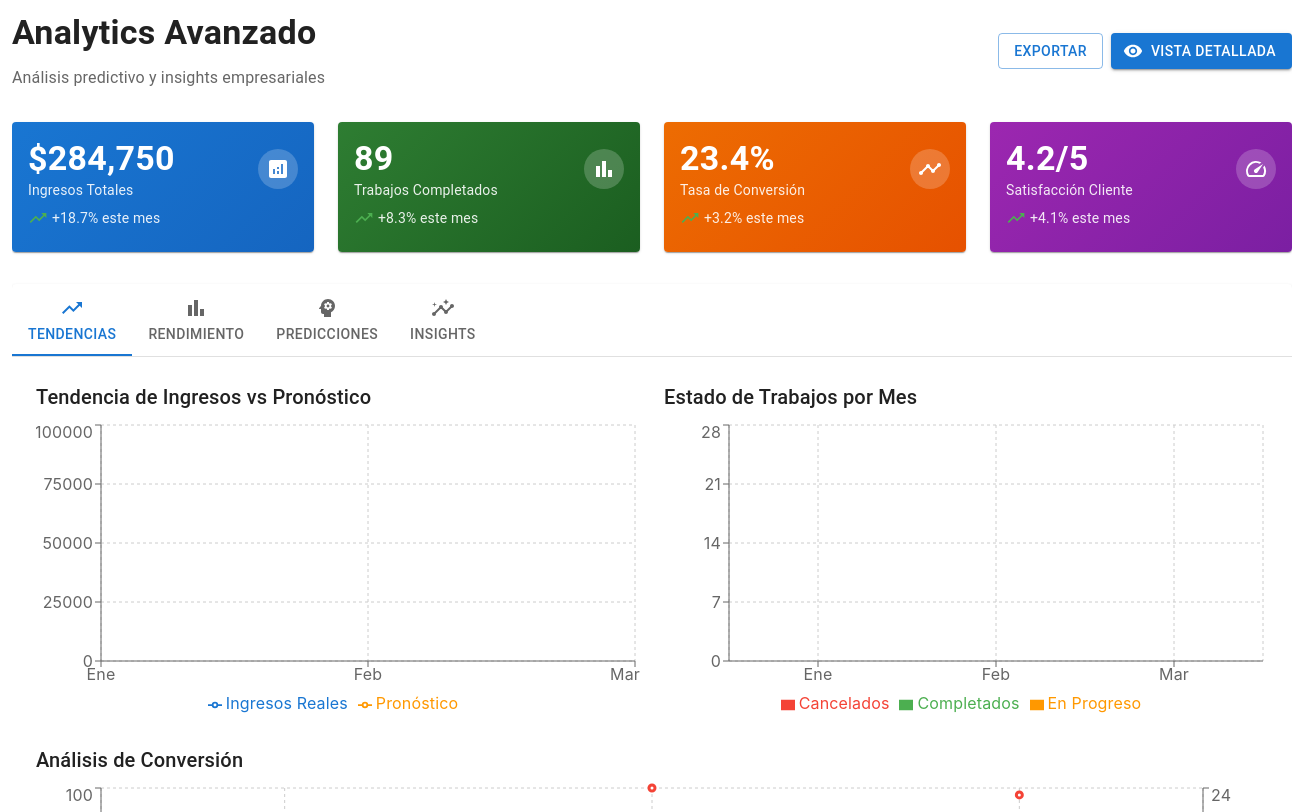
Test case: AdvancedAnalytics Component › displays top performers correctly
This screenshot has width=1304, height=812.
Switch to Rendimiento tab
Click the tab "Rendimiento" at point(196, 320), box [132,284,260,356]
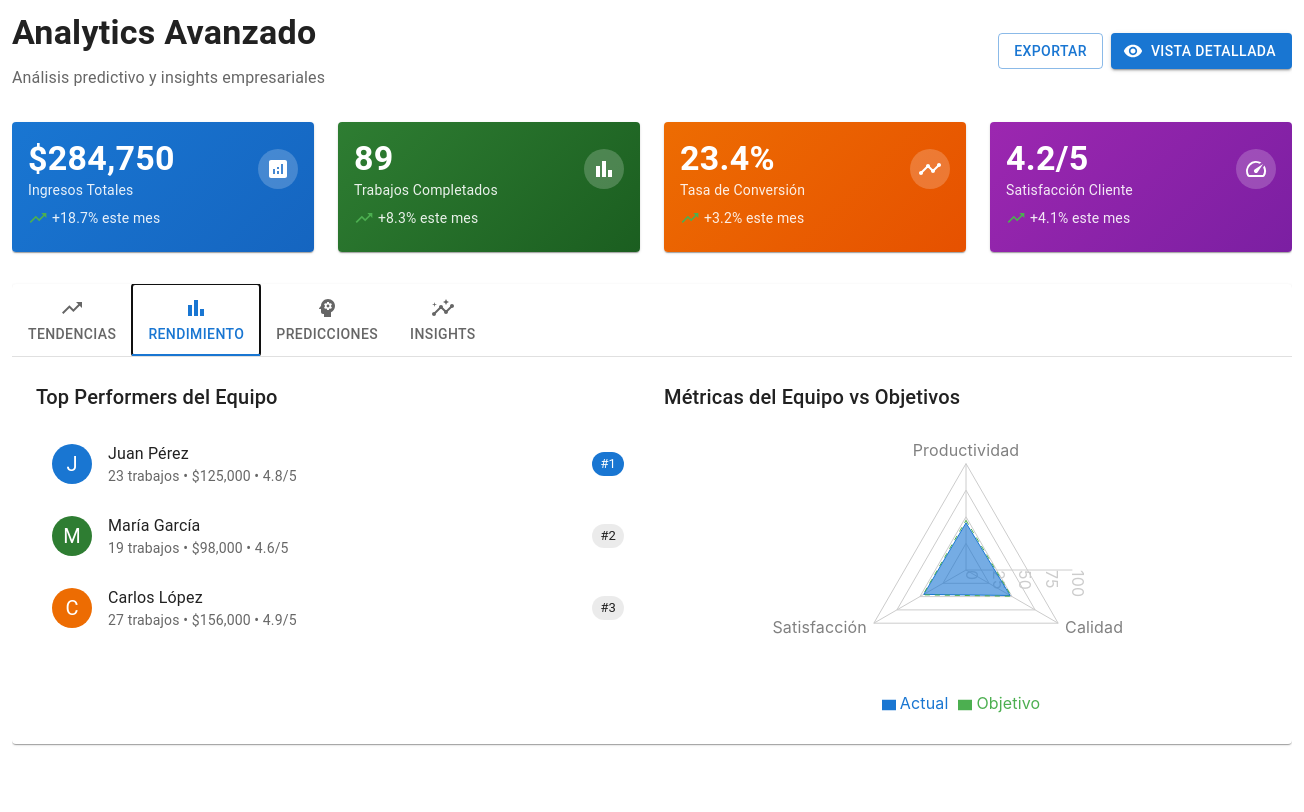
Expected: the text "Juan Pérez" is shown, [108,444,189,463]
Expected: the text "23 trabajos • $125,000 • 4.8/5" is shown, [108,468,297,484]
Expected: the text "María García" is shown, [108,516,200,535]
